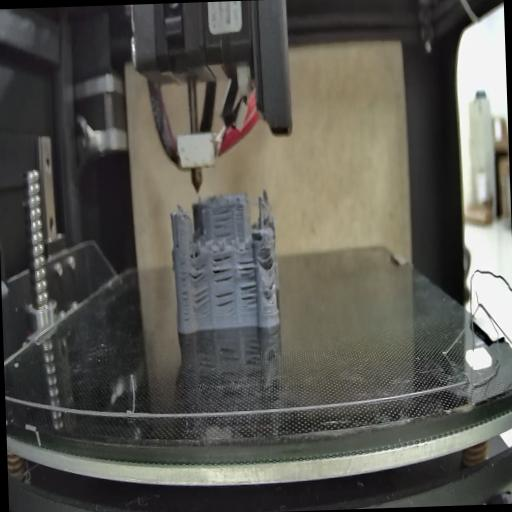cracks: (211, 206, 237, 240), (178, 260, 190, 325), (212, 253, 234, 283), (239, 280, 258, 308), (215, 289, 236, 312), (188, 260, 208, 284), (238, 254, 256, 278), (192, 288, 208, 312), (262, 250, 276, 270), (268, 279, 278, 294), (176, 236, 182, 250)
